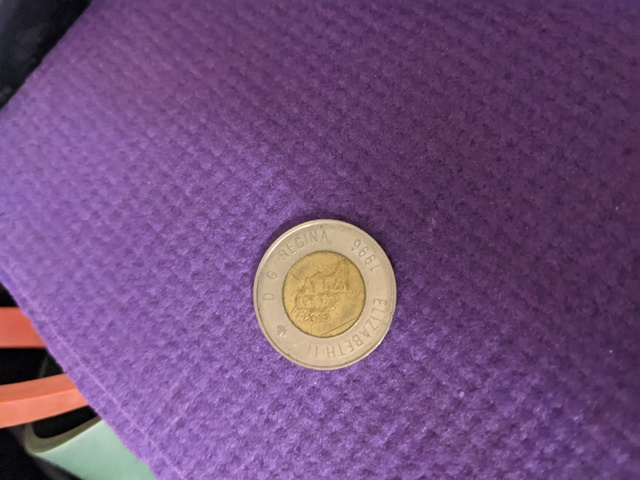twonie: (230, 206, 413, 370)
